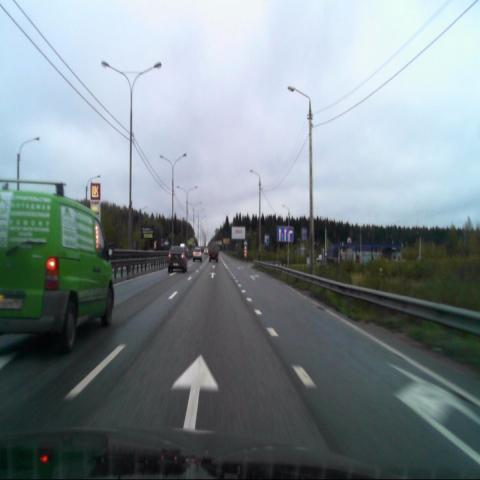5_15_1: (276, 226, 294, 242)
